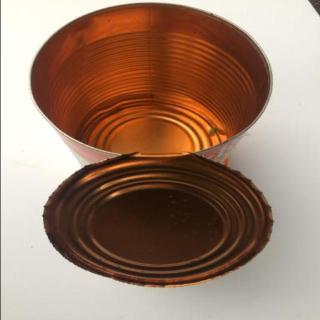Anorganik: (26, 3, 276, 288)
